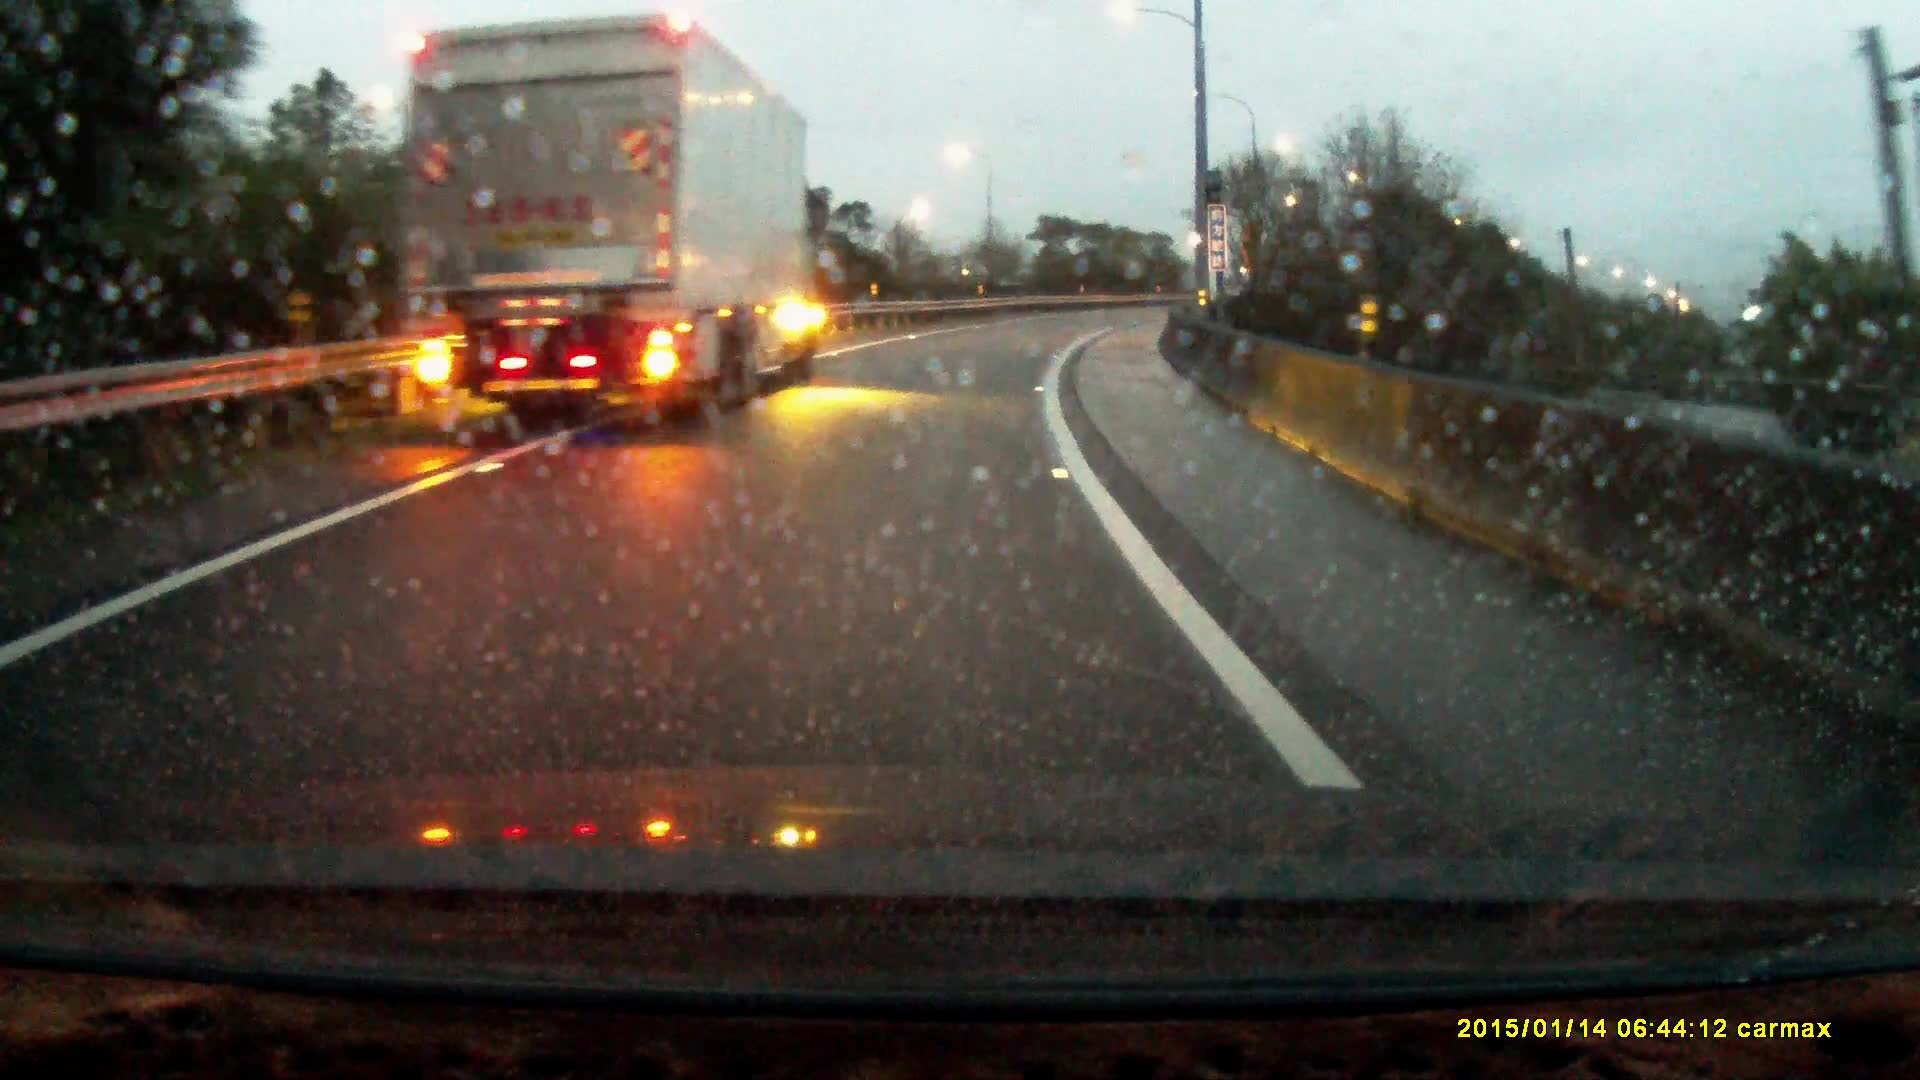vehicle: (396, 11, 825, 411)
